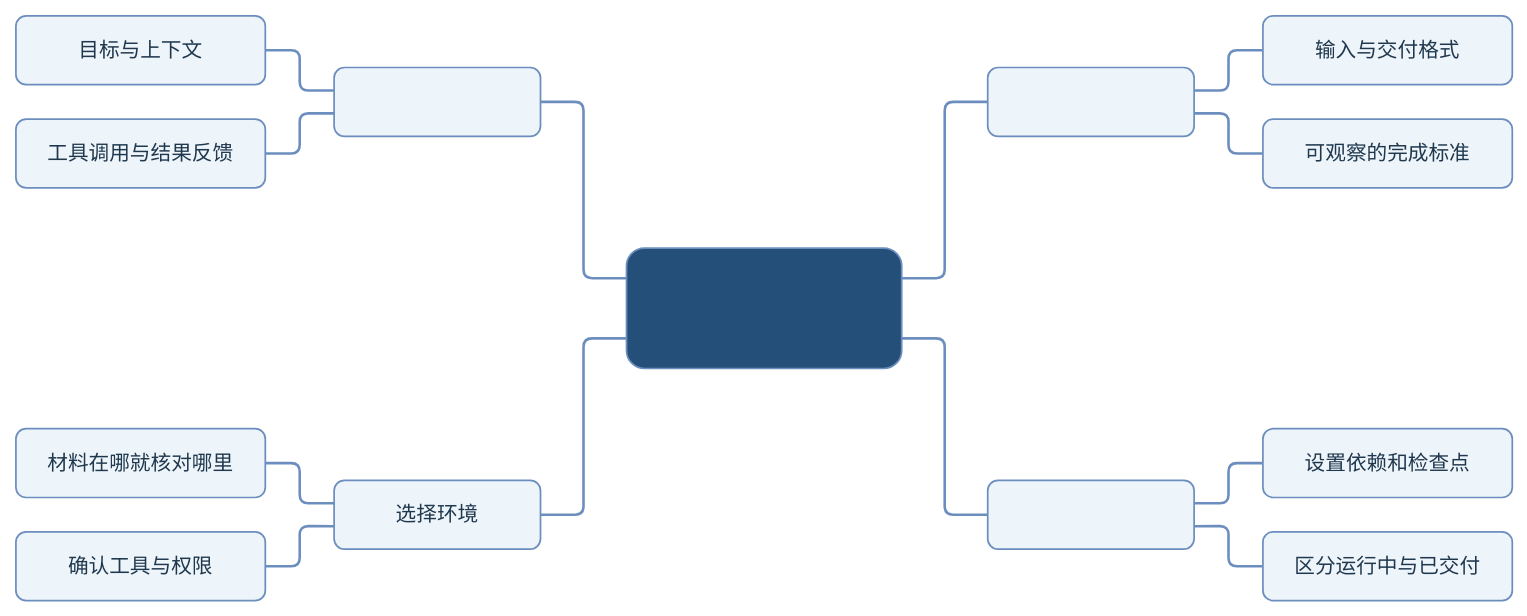
This 1527x616 diagram has some shape labels left out. Each missing label, with the centre of its shape:
"写好任务" belongs at (1090,101).
"理解执行" belongs at (437,101).
"监督进度" belongs at (1090,514).
"第3章 核心概念" belongs at (763,308).
